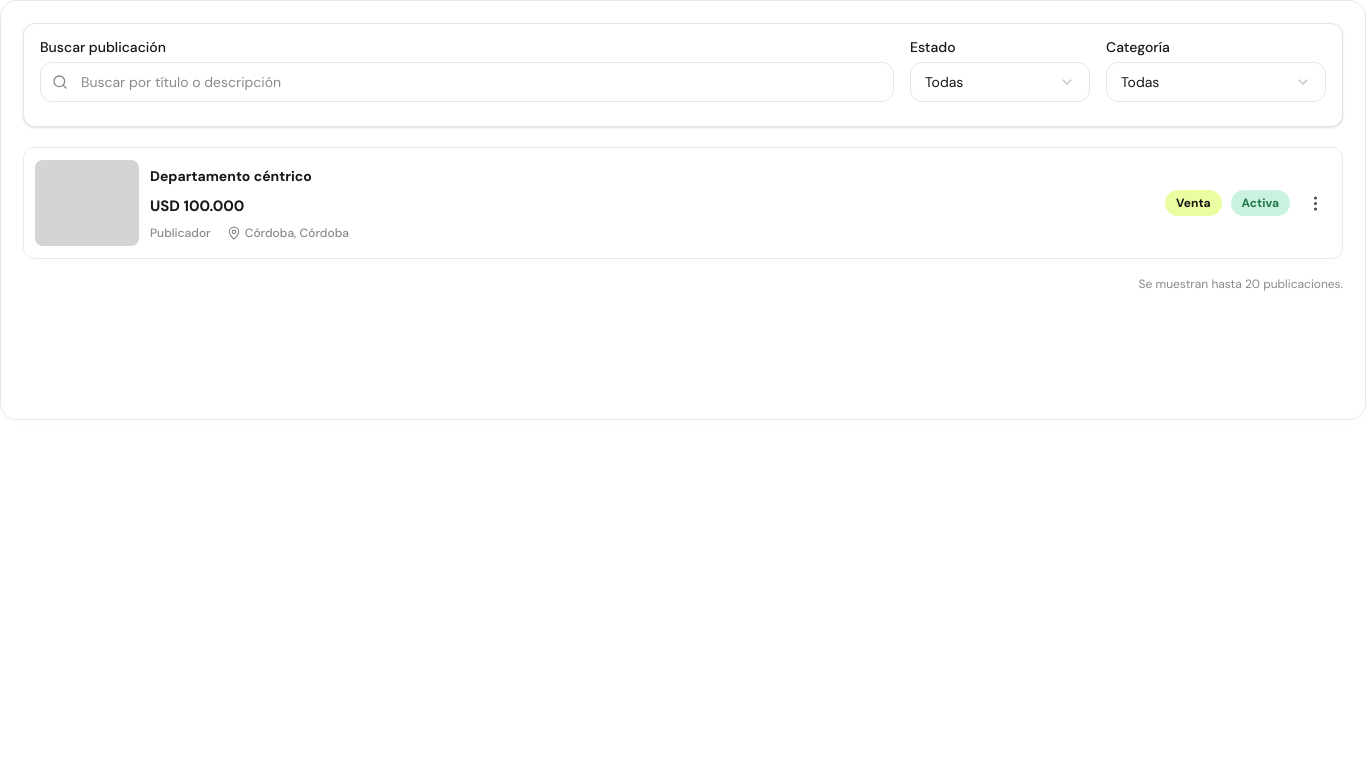
Test case: AdminPropertiesSection › permite pausar desde el menú y actualiza el listado
Expected: the text "Departamento céntrico" is shown, [150,167,312,185]
Click the button named "Acciones para Departamento céntrico" at (1315, 203), box [1299,185,1331,221]
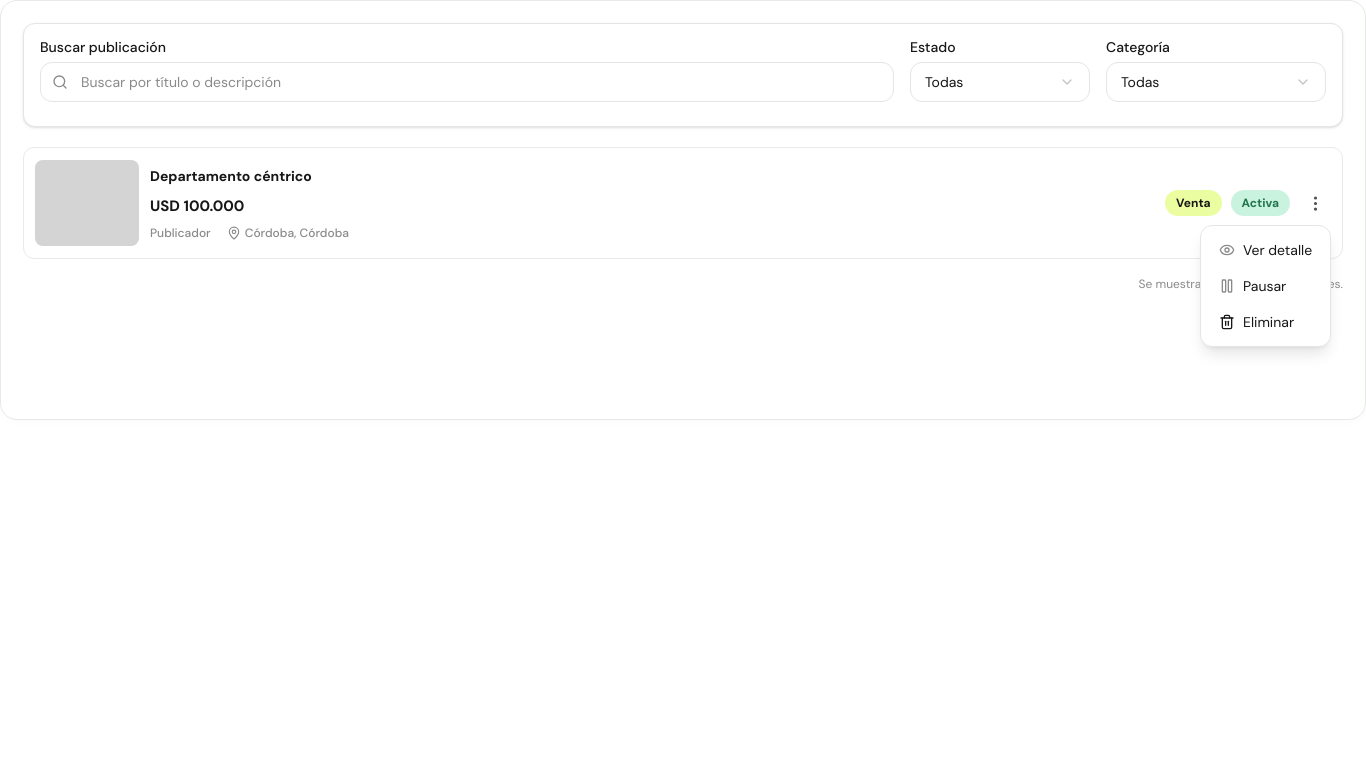
Click the menu item "Pausar" at (1253, 286), box [1219,277,1286,295]
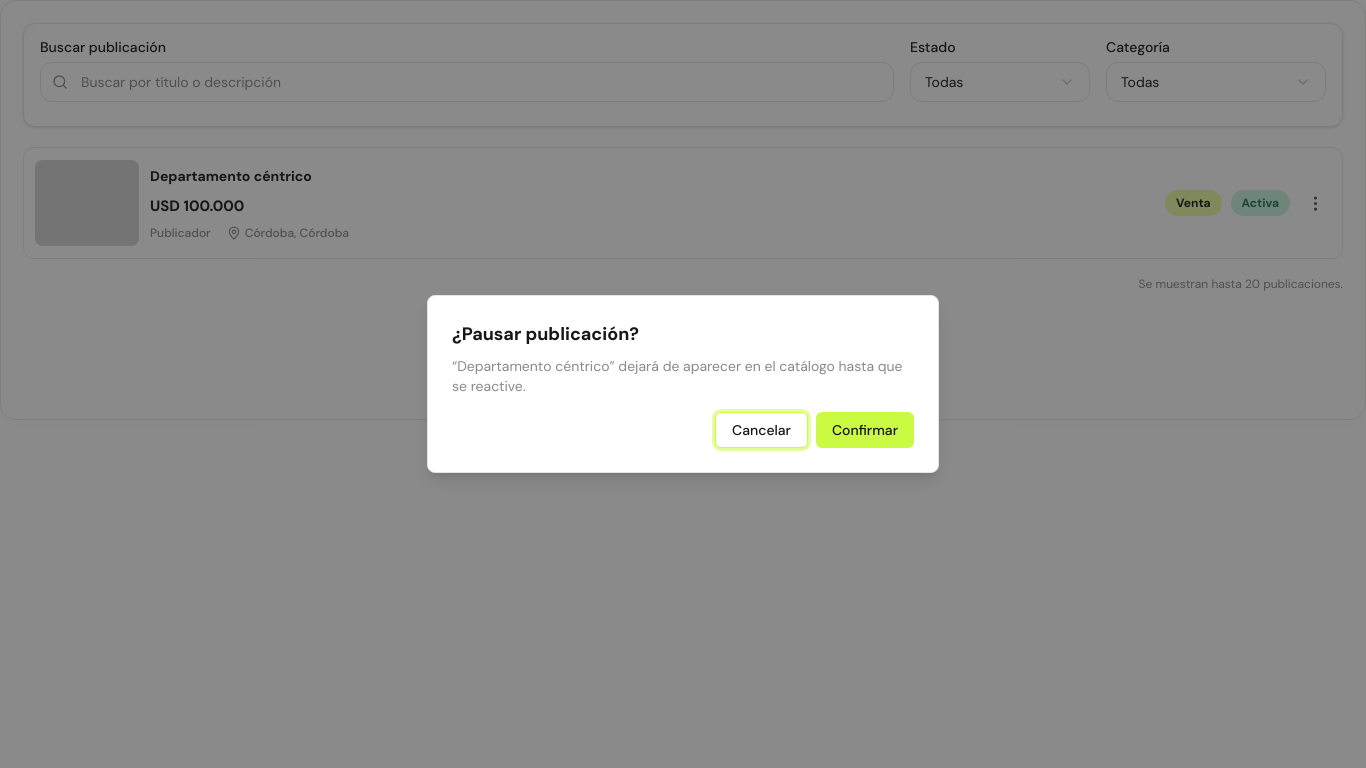
Click the button "Confirmar" at (865, 430), box [816,412,914,448]
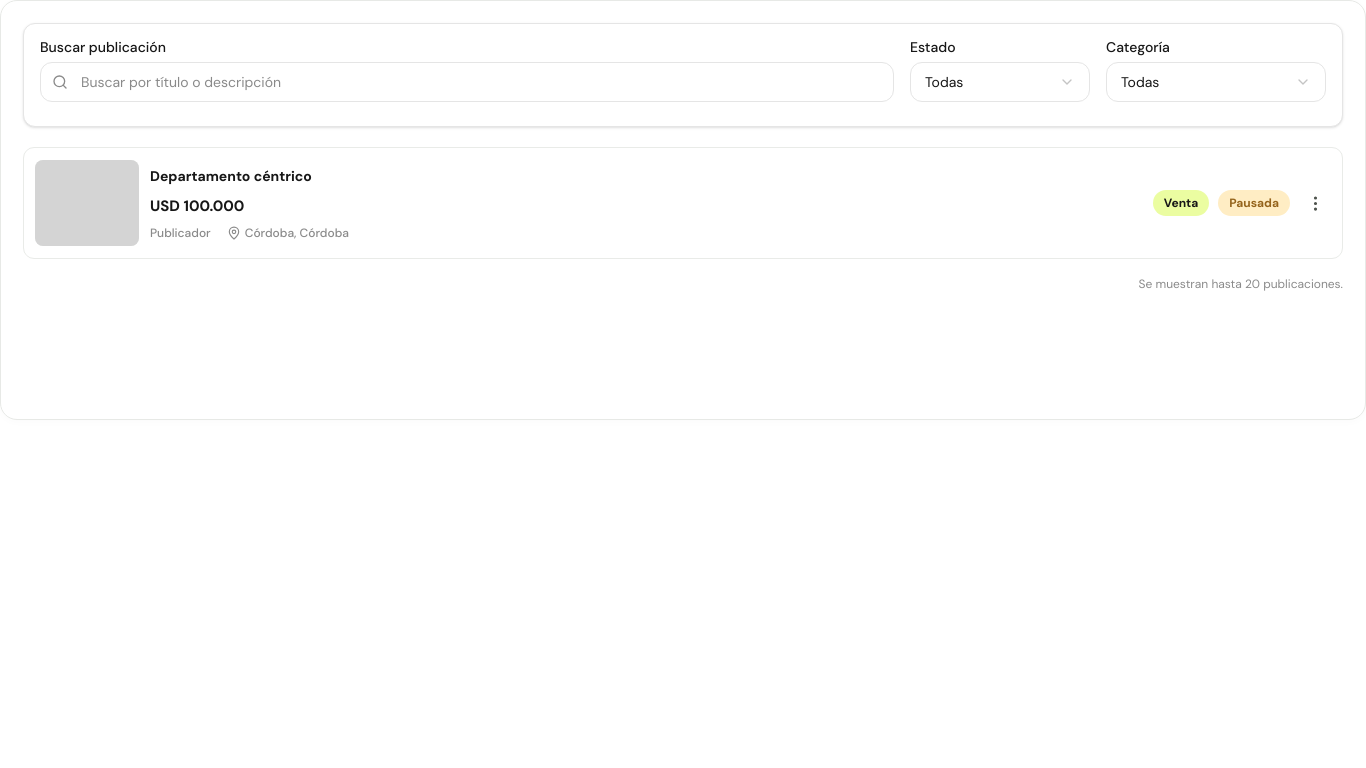
Result: the text "Pausada" is shown at [1218,190,1290,216]
